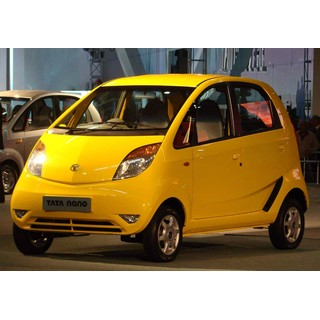car: (8, 72, 309, 263)
